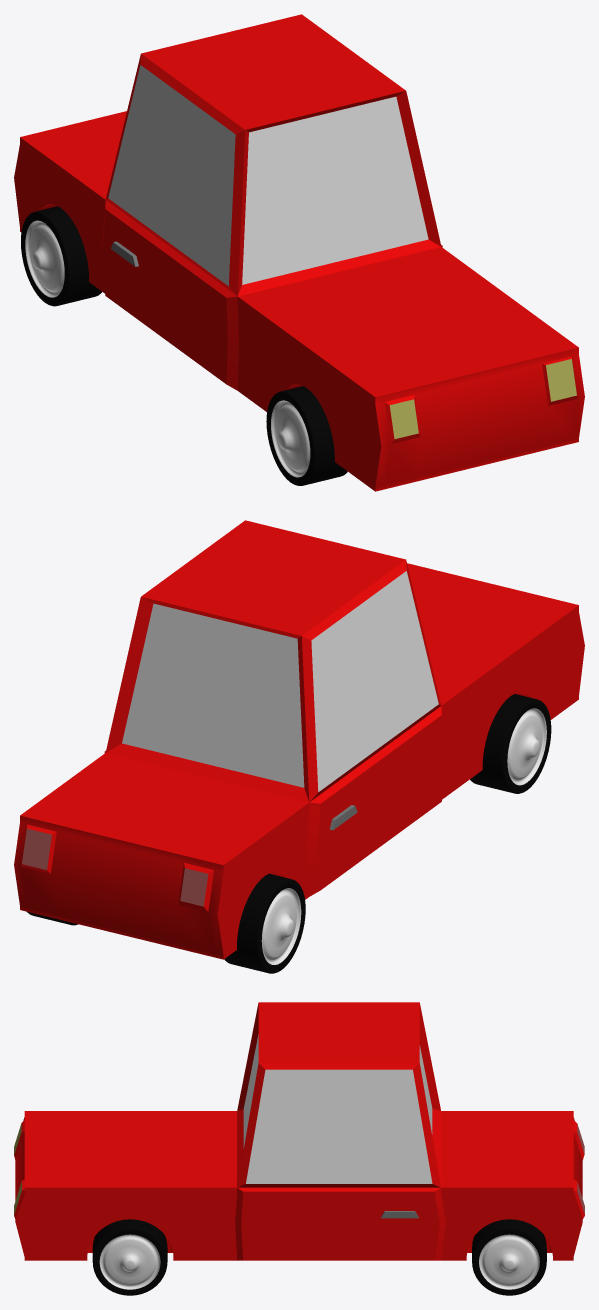
The model's file is CarRed.fbx.
3 renders of one model, top to bottom at view 1: azimuth 30°, elevation 25°; view 2: azimuth 150°, elevation 25°; view 3: azimuth 270°, elevation 25°, orthographic. The views are drawn at different scales.
Parts seen in each view (by area): view 1: MainCarBody, pCylinder16, pCylinder15; view 2: MainCarBody, pCylinder15, pCylinder16; view 3: MainCarBody, pCylinder13, pCylinder14.
Boxes of the visible parts, x1,y1,x2,y2 form: MainCarBody: (14,14,584,491); pCylinder16: (266,386,347,485); pCylinder15: (21,206,101,306); MainCarBody: (14,520,584,959); pCylinder15: (224,873,305,973); pCylinder16: (470,694,551,793); MainCarBody: (14,1002,584,1260); pCylinder13: (92,1219,167,1295); pCylinder14: (472,1219,546,1295).
Bounding box in the file's own units: 64 × 67.48 × 160.
